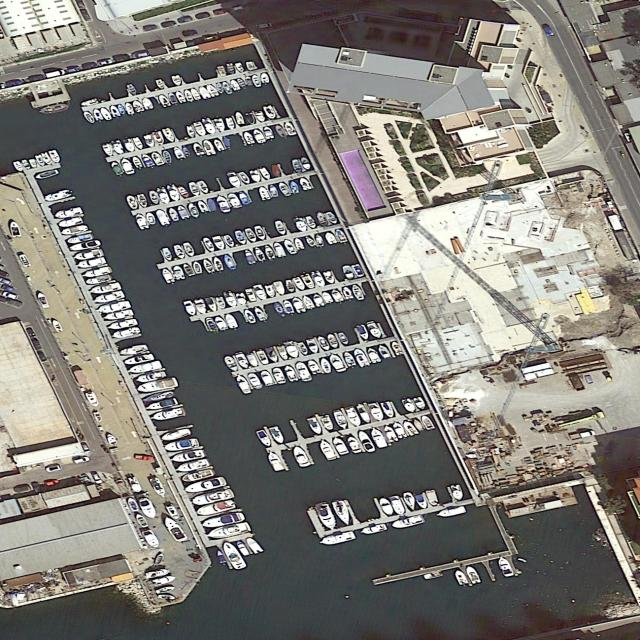ship: (205, 521, 253, 541), (190, 488, 236, 507), (183, 476, 228, 495), (200, 512, 247, 530), (194, 499, 237, 518), (135, 377, 179, 395), (221, 541, 248, 570), (313, 502, 340, 531), (162, 516, 189, 543), (331, 499, 354, 527), (318, 531, 357, 547), (149, 407, 187, 423), (173, 458, 210, 474), (169, 449, 207, 464), (179, 469, 215, 484), (390, 515, 426, 530), (163, 438, 201, 452), (126, 361, 163, 375), (92, 290, 126, 305), (137, 497, 159, 520), (96, 301, 132, 315), (144, 398, 179, 412), (290, 445, 311, 468), (88, 282, 122, 296), (160, 428, 193, 442), (72, 248, 105, 262), (141, 391, 176, 404), (140, 529, 162, 549), (317, 439, 337, 461), (356, 431, 376, 453), (369, 427, 389, 449), (76, 256, 107, 270), (106, 318, 139, 331), (135, 371, 168, 384), (81, 266, 114, 279), (68, 239, 101, 252), (265, 451, 285, 472), (43, 189, 73, 203), (294, 362, 314, 383), (344, 406, 363, 428), (101, 309, 135, 321), (111, 327, 142, 340), (118, 344, 149, 357), (436, 506, 467, 519), (327, 353, 347, 373), (149, 477, 168, 498), (123, 354, 156, 366), (359, 523, 389, 536), (38, 103, 70, 115), (367, 402, 386, 422), (352, 348, 371, 368), (53, 207, 84, 219), (255, 429, 274, 448), (244, 537, 264, 555), (377, 497, 395, 517), (496, 557, 514, 577), (332, 409, 349, 430), (57, 216, 84, 229), (60, 225, 89, 237), (331, 437, 350, 455), (365, 321, 384, 339), (214, 195, 232, 214), (235, 374, 252, 394), (389, 495, 406, 515), (86, 274, 114, 286), (306, 417, 324, 435), (246, 372, 264, 390), (269, 426, 286, 445), (119, 157, 136, 176), (356, 404, 372, 424), (67, 234, 95, 245), (401, 420, 419, 437), (391, 421, 408, 439), (346, 436, 363, 454), (382, 425, 399, 443), (283, 341, 300, 359), (223, 355, 240, 373), (464, 566, 481, 584), (402, 492, 418, 511), (152, 575, 177, 587), (145, 568, 172, 579), (84, 391, 101, 408), (319, 414, 336, 431), (310, 271, 327, 288), (225, 171, 242, 188), (226, 192, 243, 209), (252, 284, 269, 301), (380, 401, 396, 419), (271, 367, 287, 385), (34, 169, 60, 180), (165, 504, 181, 521), (419, 414, 436, 430), (201, 139, 217, 156), (201, 118, 217, 135), (316, 335, 332, 352), (350, 284, 366, 301), (259, 370, 275, 387), (234, 352, 250, 369), (17, 254, 34, 270), (134, 213, 150, 230), (182, 300, 198, 317), (282, 239, 299, 255), (284, 365, 299, 383), (36, 291, 51, 309), (291, 296, 306, 314), (222, 253, 237, 271), (401, 398, 417, 414), (251, 128, 267, 144), (161, 127, 177, 143), (306, 359, 322, 375), (355, 324, 371, 340), (366, 347, 382, 363), (453, 569, 469, 585), (160, 268, 176, 284), (211, 235, 227, 251), (242, 309, 258, 325), (272, 280, 288, 296), (128, 476, 143, 493), (450, 484, 465, 501), (155, 209, 170, 226), (223, 291, 238, 308), (134, 513, 150, 528), (204, 83, 220, 98), (149, 151, 165, 166), (342, 351, 357, 367), (305, 338, 320, 354), (377, 345, 393, 360), (414, 494, 429, 510), (277, 182, 293, 197), (223, 313, 238, 329), (213, 316, 229, 331), (272, 302, 287, 318), (252, 225, 267, 241), (272, 242, 287, 258), (103, 433, 120, 447), (157, 188, 171, 205), (283, 121, 298, 136), (301, 274, 316, 289), (201, 258, 216, 273), (204, 297, 219, 312), (204, 317, 219, 332), (233, 230, 248, 245), (244, 228, 259, 243), (273, 221, 288, 236), (236, 541, 250, 557), (350, 264, 366, 278), (193, 121, 207, 137), (265, 347, 279, 363), (187, 203, 201, 219), (167, 185, 181, 201), (202, 237, 216, 253), (253, 246, 267, 262), (315, 211, 329, 227), (9, 221, 22, 238), (426, 489, 439, 506), (194, 298, 207, 315), (126, 497, 140, 512), (111, 140, 125, 155), (263, 105, 277, 120), (157, 94, 172, 108), (197, 86, 212, 100), (110, 161, 124, 176), (152, 131, 166, 146), (140, 153, 155, 167), (126, 195, 140, 210), (390, 341, 404, 356), (292, 277, 307, 291), (341, 265, 355, 280), (256, 350, 270, 365), (172, 244, 186, 259), (182, 242, 196, 257), (172, 265, 186, 280), (176, 205, 190, 220), (187, 182, 201, 197), (253, 307, 268, 321), (243, 250, 257, 265), (294, 217, 308, 232), (326, 333, 339, 349), (413, 396, 427, 410), (411, 418, 425, 432), (140, 96, 154, 110), (99, 107, 113, 121), (242, 131, 256, 145), (296, 342, 310, 356), (330, 289, 344, 303), (323, 271, 337, 285), (311, 293, 325, 307), (301, 295, 315, 309), (237, 191, 251, 205), (334, 229, 348, 243), (304, 215, 318, 229), (123, 138, 136, 153), (82, 111, 97, 124), (273, 125, 288, 138), (136, 194, 149, 209), (277, 346, 290, 361), (246, 353, 259, 368), (148, 190, 161, 205), (258, 186, 271, 201), (161, 247, 174, 262), (237, 172, 252, 185), (197, 180, 210, 195), (263, 245, 276, 260), (320, 358, 332, 374), (155, 586, 176, 595), (423, 571, 444, 580), (51, 319, 64, 333), (101, 144, 115, 157), (132, 137, 145, 151), (189, 87, 202, 101), (221, 81, 234, 95), (132, 99, 145, 113), (48, 150, 62, 163), (192, 142, 205, 156), (143, 134, 156, 148), (341, 286, 354, 300), (299, 177, 312, 191), (259, 167, 272, 181), (177, 186, 191, 199), (245, 288, 258, 302), (235, 292, 249, 305), (282, 300, 295, 314), (303, 235, 317, 248), (80, 98, 100, 107), (212, 256, 224, 271), (168, 207, 180, 222), (126, 83, 139, 96), (41, 152, 54, 165), (337, 332, 350, 345), (321, 291, 334, 304), (182, 264, 195, 277), (249, 170, 262, 183), (206, 198, 219, 211), (223, 235, 236, 248), (325, 211, 338, 224), (154, 552, 166, 566), (251, 74, 263, 88), (108, 105, 122, 117), (214, 118, 226, 132), (291, 159, 303, 173), (324, 232, 338, 244), (174, 91, 187, 103), (182, 89, 194, 102), (34, 154, 46, 167), (262, 126, 274, 139), (213, 139, 225, 152), (172, 147, 185, 159), (300, 157, 312, 170), (197, 200, 209, 213), (215, 297, 227, 310), (293, 237, 305, 250), (229, 79, 241, 91), (236, 78, 248, 90), (254, 111, 266, 123), (92, 108, 103, 121), (12, 161, 25, 172), (225, 117, 236, 130), (290, 181, 301, 194), (192, 261, 203, 274), (146, 212, 157, 225), (265, 285, 276, 298), (285, 280, 296, 293), (163, 150, 173, 164), (235, 111, 245, 125), (93, 411, 104, 423), (167, 92, 178, 104), (171, 75, 183, 86), (132, 156, 143, 168), (245, 113, 256, 125), (216, 550, 226, 563), (125, 102, 135, 115), (269, 184, 279, 197), (314, 234, 324, 247), (217, 66, 228, 77), (116, 104, 127, 115), (21, 159, 32, 170), (243, 76, 254, 87), (226, 63, 236, 75), (222, 136, 232, 148), (215, 83, 225, 94), (158, 594, 176, 600), (187, 126, 196, 138), (155, 79, 165, 89), (235, 63, 245, 73), (182, 146, 191, 157), (272, 165, 280, 177), (260, 73, 269, 83), (29, 159, 38, 169), (246, 62, 255, 71)
small-vehicle: (569, 430, 597, 441), (539, 24, 556, 38), (11, 483, 34, 493), (44, 69, 66, 79), (1, 290, 21, 301), (130, 50, 150, 60), (27, 73, 47, 83), (72, 455, 91, 465), (113, 54, 132, 64), (211, 7, 231, 16), (4, 79, 24, 88), (133, 453, 153, 462), (202, 34, 221, 43), (44, 464, 63, 473), (175, 15, 193, 24), (142, 23, 158, 33), (194, 12, 211, 21), (159, 19, 176, 28), (65, 66, 82, 75), (81, 62, 98, 71), (98, 58, 115, 67), (181, 29, 199, 37), (45, 478, 61, 487), (91, 472, 103, 484), (79, 443, 92, 454), (0, 284, 15, 293), (257, 22, 273, 30)
